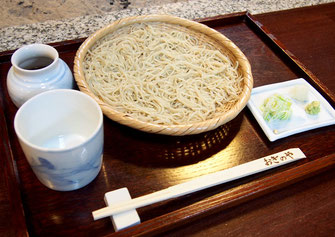Soba: (89, 24, 240, 122)
